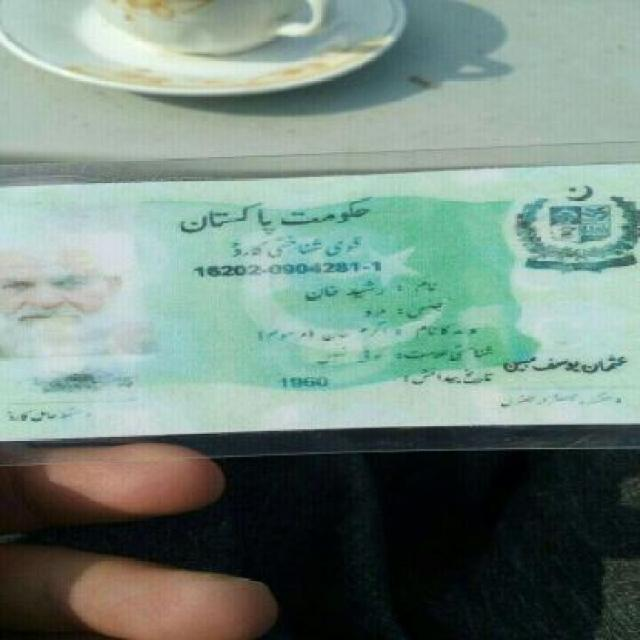Front: (1, 171, 634, 440)
